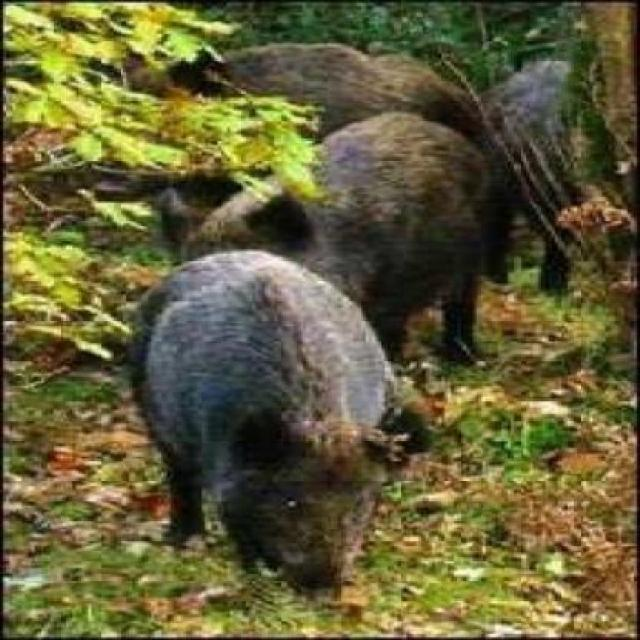Boar: (140, 258, 434, 577)
